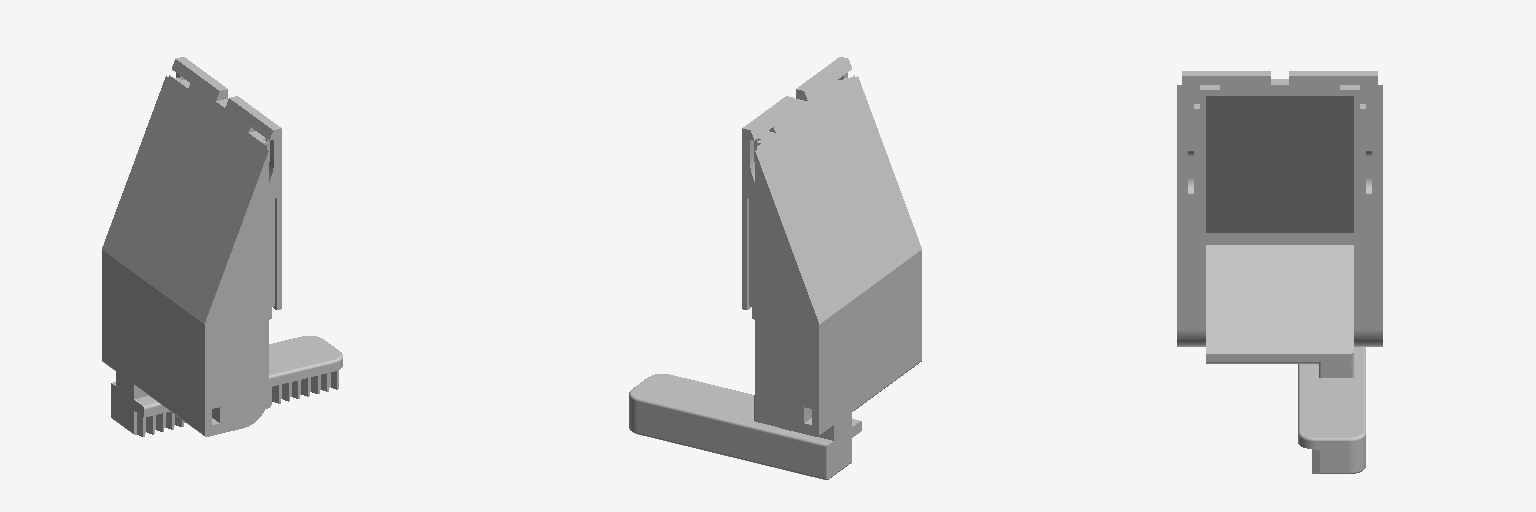
The model's file is Prints_fingerRack.001.obj.
3 views of the same model, side by side, from view 1: azimuth 30°, elevation 25°; view 2: azimuth 150°, elevation 25°; view 3: azimuth 270°, elevation 25° (orthographic).
Visible parts, largest first — view 1: fingerRack.001; view 2: fingerRack.001; view 3: fingerRack.001.
Boxes of the visible parts, x1=… form: fingerRack.001: x1=102, y1=57, x2=342, y2=436; fingerRack.001: x1=629, y1=57, x2=921, y2=479; fingerRack.001: x1=1177, y1=71, x2=1382, y2=473.
Size of the model in its own units: 0.056 by 0.088 by 0.0484.